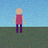person: (13, 8, 25, 33)
